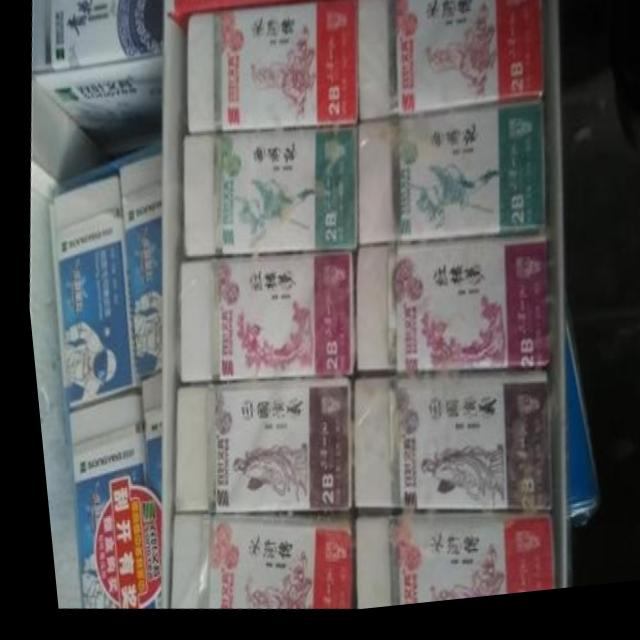box: (149, 0, 555, 614), (341, 379, 540, 519), (352, 110, 541, 254), (347, 244, 544, 380), (163, 386, 343, 518), (45, 175, 132, 444), (356, 0, 540, 126), (179, 129, 353, 258), (185, 4, 357, 134), (175, 258, 350, 383), (31, 0, 160, 163), (344, 523, 542, 613), (157, 519, 340, 613), (60, 416, 140, 608), (116, 154, 158, 414), (172, 0, 370, 41), (554, 333, 585, 530), (134, 406, 153, 609)
